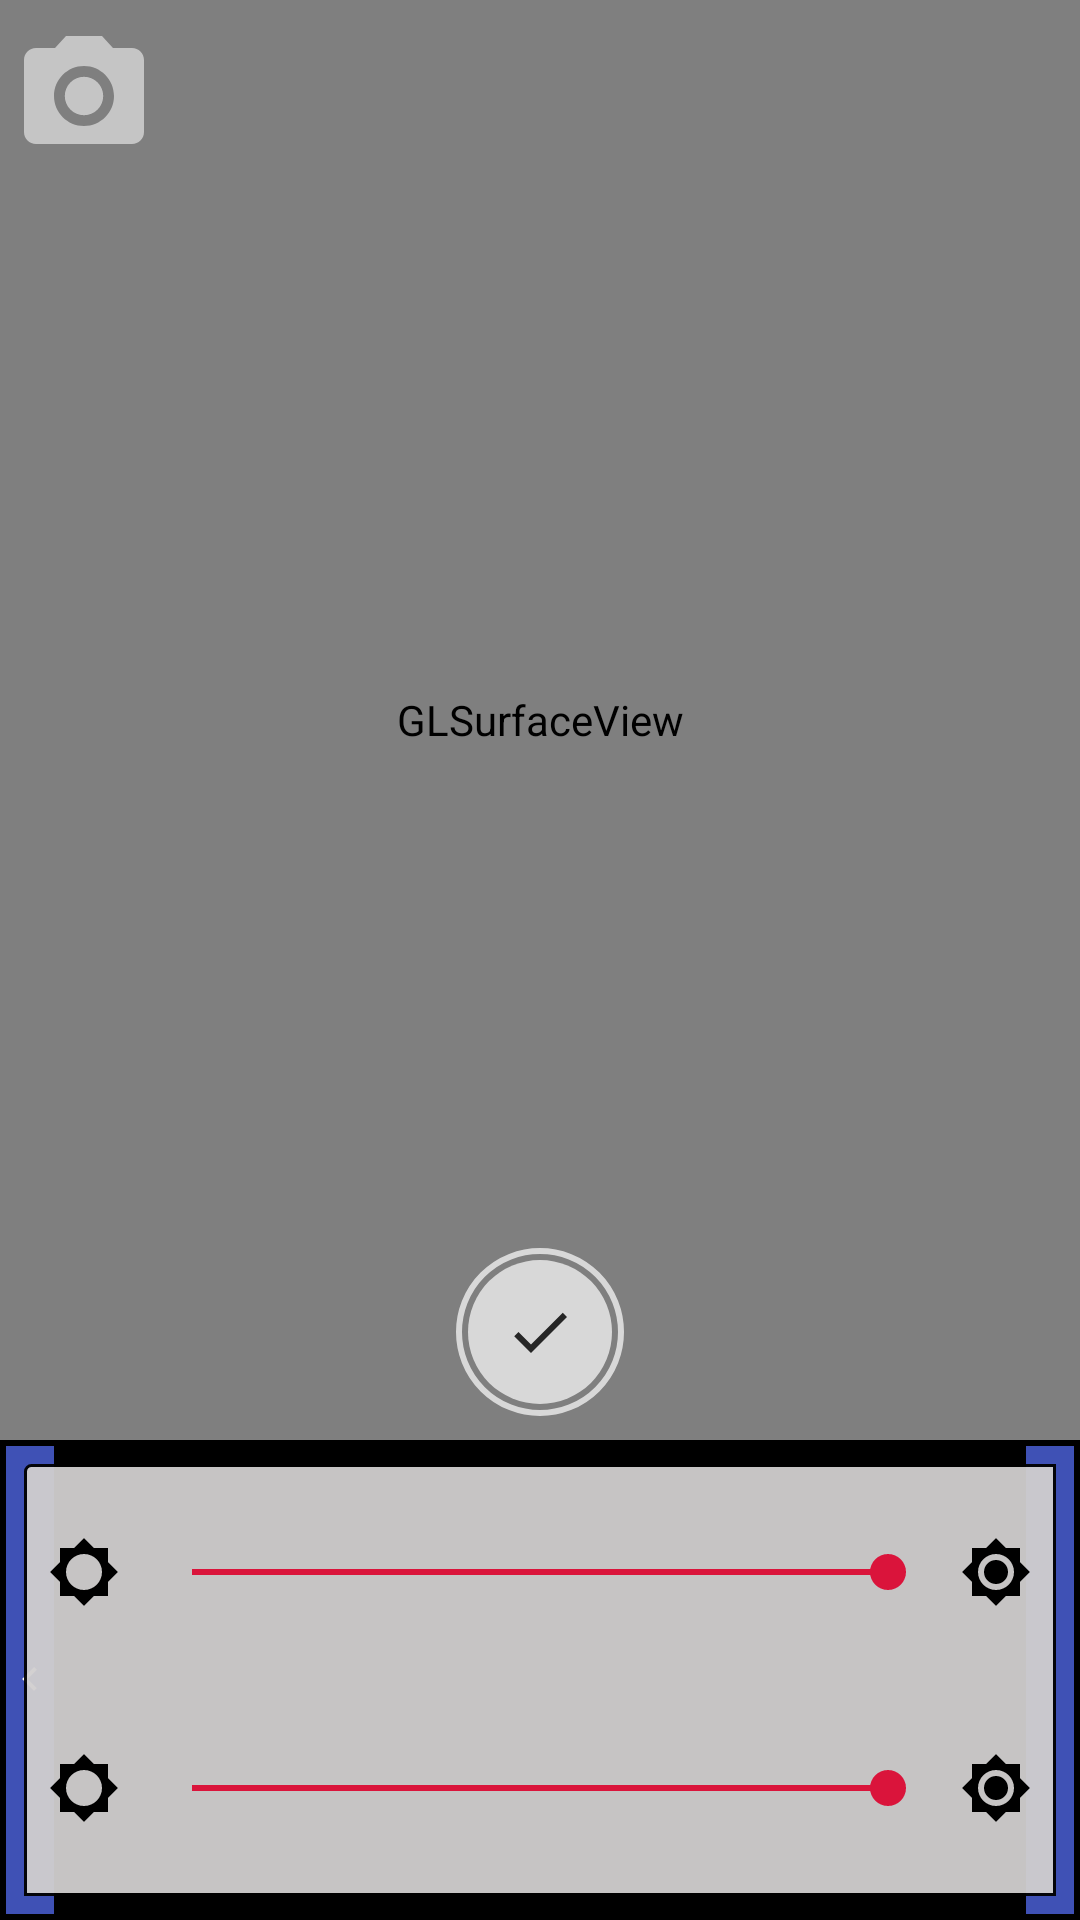

Point at icon controls on the screen. Image size 1080×1920, points as (x,y).
apply: (540,1332)
brightness full: (996,1572), (996,1788)
brightness low: (84,1572), (84,1788)
camera: (84,90)
